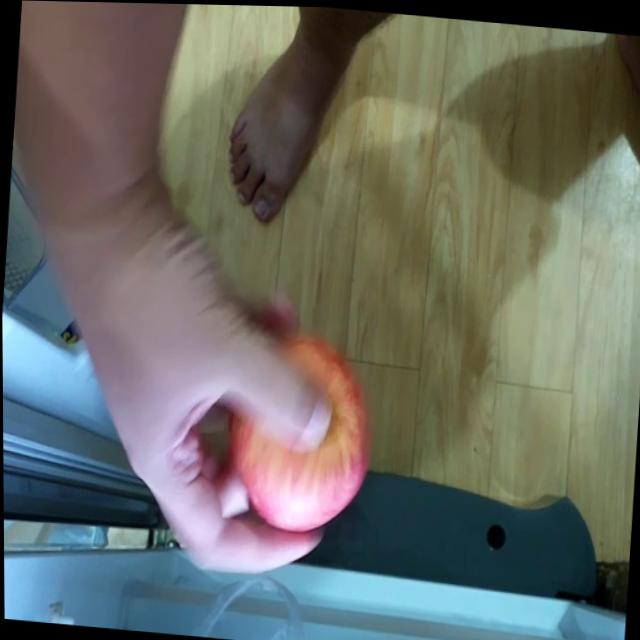apple: (205, 344, 376, 531)
